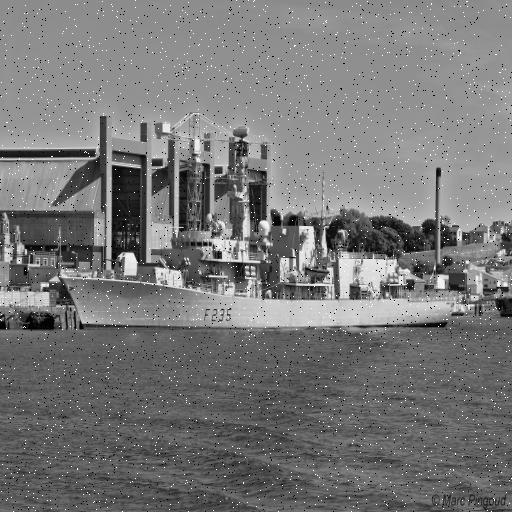Fragata: (54, 165, 459, 335)
